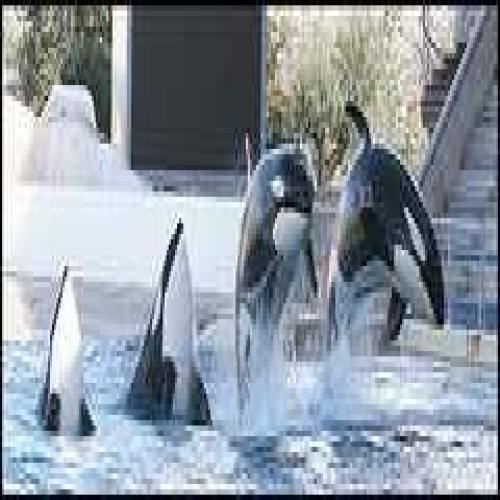killer_whale-endangered: (324, 97, 449, 385), (231, 113, 316, 435), (118, 185, 218, 442), (36, 242, 101, 450)
